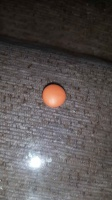Dolorex: (40, 83, 67, 108)
